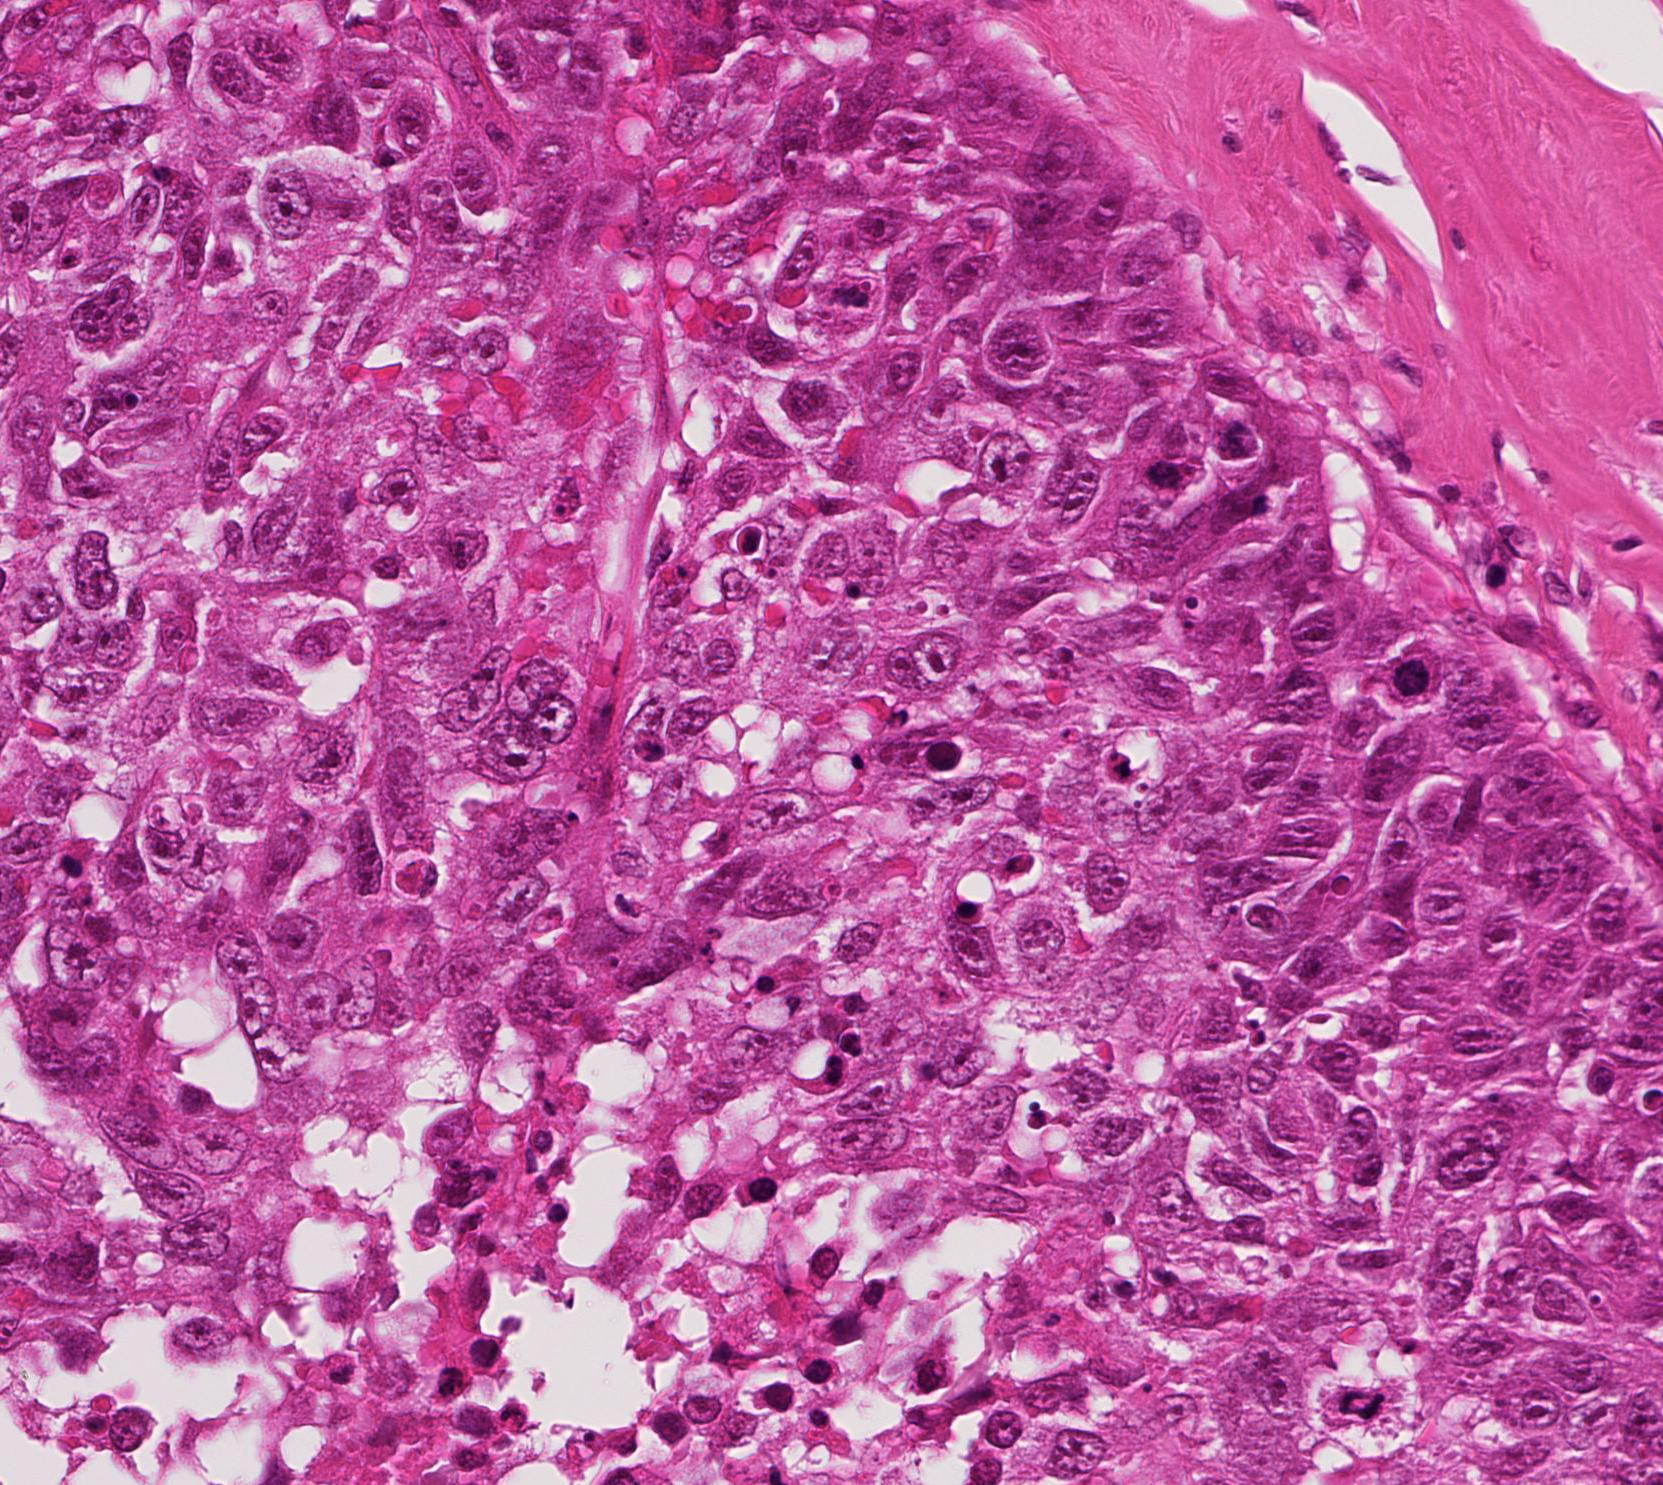mitosis: (1383, 639, 1444, 699), (33, 831, 93, 892), (1335, 1373, 1395, 1433), (1200, 398, 1260, 459), (1141, 434, 1201, 495), (821, 267, 882, 327)
